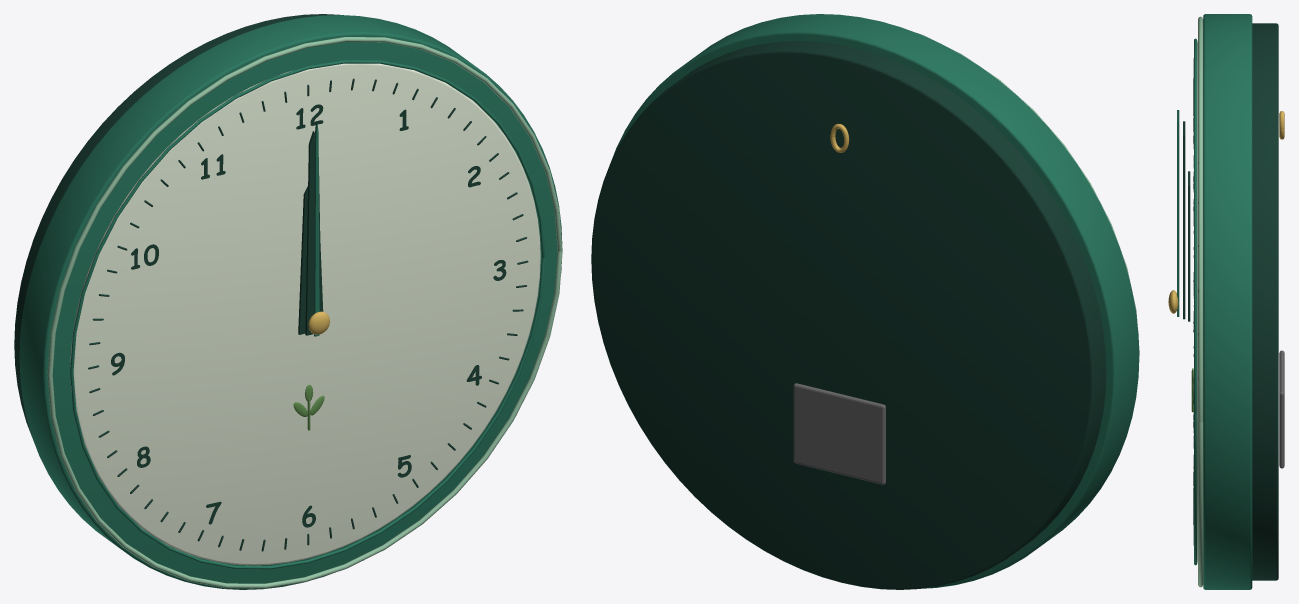
The model's file is botanical_clock.glb.
3 views of the same model, side by side, from view 1: azimuth 30°, elevation 25°; view 2: azimuth 150°, elevation 25°; view 3: azimuth 270°, elevation 25° (orthographic). The views are drawn at different scales.
Visible parts, largest first — view 1: Sage_dial, Green_rim, Outer_mint_bead, Inner_green_bead, Rear_case, Separate_clock_hand.001, Separate_clock_hand.002, Separate_clock_hand; view 2: Rear_case, Green_rim, Battery_cover; view 3: Green_rim, Rear_case, Outer_mint_bead, Inner_green_bead, Battery_cover, Separate_clock_hand.002, Separate_clock_hand.001, Sage_dial, Separate_clock_hand, Central_brass_pin.
Part boxes in pixels (x1=…): Sage_dial: x1=70, y1=63, x2=540, y2=565; Green_rim: x1=19, y1=15, x2=562, y2=589; Outer_mint_bead: x1=47, y1=37, x2=562, y2=588; Inner_green_bead: x1=70, y1=60, x2=545, y2=569; Rear_case: x1=14, y1=14, x2=343, y2=436; Separate_clock_hand.001: x1=305, y1=131, x2=321, y2=335; Separate_clock_hand.002: x1=314, y1=121, x2=319, y2=336; Separate_clock_hand: x1=298, y1=186, x2=323, y2=334; Rear_case: x1=591, y1=41, x2=1106, y2=589; Green_rim: x1=611, y1=14, x2=1139, y2=588; Battery_cover: x1=793, y1=383, x2=885, y2=484; Green_rim: x1=1203, y1=14, x2=1252, y2=589; Rear_case: x1=1252, y1=23, x2=1278, y2=580; Outer_mint_bead: x1=1198, y1=16, x2=1203, y2=587; Inner_green_bead: x1=1194, y1=38, x2=1197, y2=565; Battery_cover: x1=1279, y1=350, x2=1284, y2=468; Separate_clock_hand.002: x1=1177, y1=110, x2=1179, y2=316; Separate_clock_hand.001: x1=1183, y1=121, x2=1185, y2=319; Sage_dial: x1=1197, y1=42, x2=1197, y2=561; Separate_clock_hand: x1=1188, y1=171, x2=1190, y2=321; Central_brass_pin: x1=1168, y1=290, x2=1178, y2=313.
Size of the model in its own units: 0.68 by 0.68 by 0.137.
